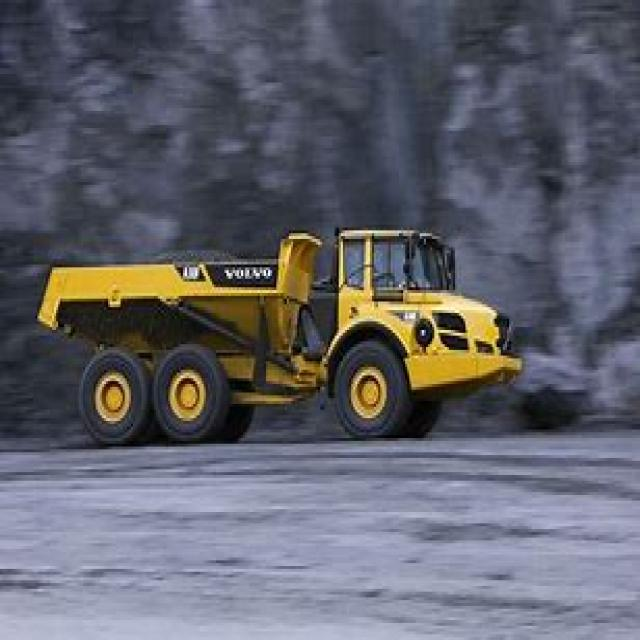dump_truck: (35, 216, 526, 449)
